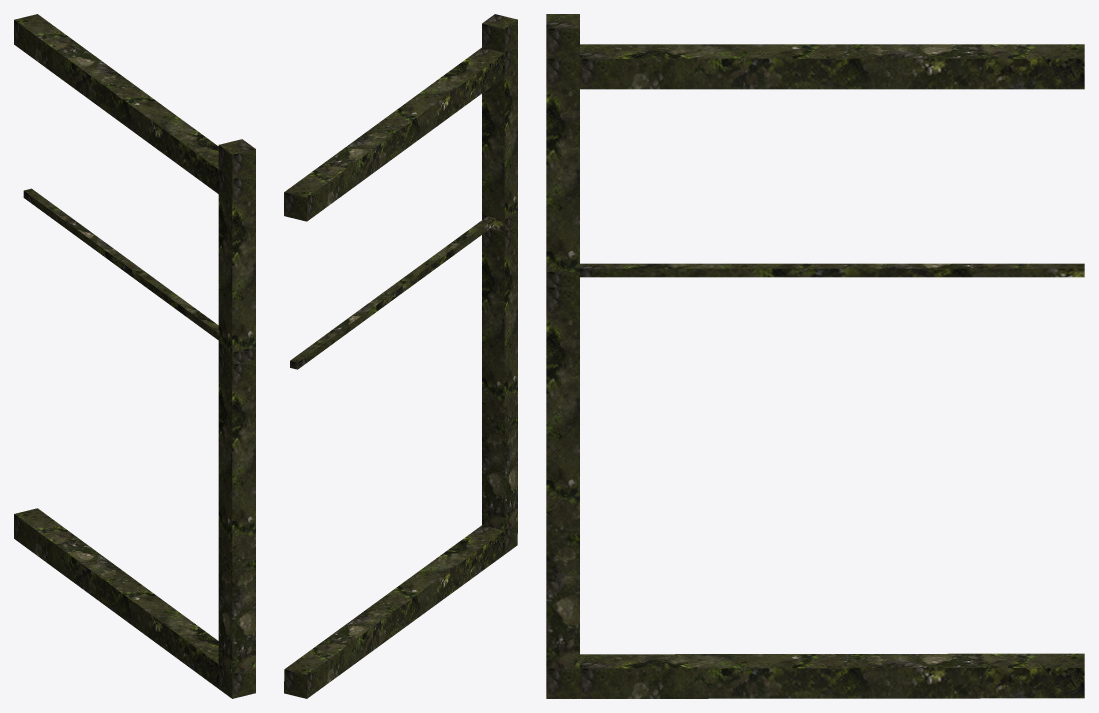
The model's file is metal-rail.obj.
3 renders of one model, left to right at view 1: azimuth 30°, elevation 25°; view 2: azimuth 150°, elevation 25°; view 3: azimuth 270°, elevation 25°, orthographic. The views are drawn at different scales.
Visible parts, largest first — view 1: metal-rail; view 2: metal-rail; view 3: metal-rail.
Boxes of the visible parts, x1,y1,x2,y2 form: metal-rail: [14, 14, 255, 698]; metal-rail: [284, 14, 517, 698]; metal-rail: [546, 14, 1084, 698].
Bounding box in the file's own units: 0.0625 × 1.38 × 1.
